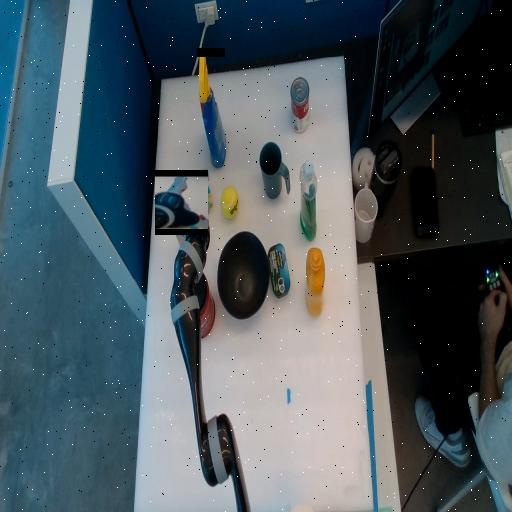bowl: (218, 232, 268, 318)
cleanser: (300, 161, 316, 241)
coffee_can: (175, 283, 214, 322)
jaco: (155, 176, 208, 229)
meat_can: (267, 244, 289, 298)
mug: (259, 143, 289, 199)
mustard_bottle: (305, 273, 324, 292)
rubik: (190, 174, 212, 217)
soup_can: (290, 78, 308, 133)
tennis_ball: (221, 188, 238, 218)
windex: (197, 96, 225, 118)
wooden_block: (170, 219, 195, 244)
workspace: (135, 57, 372, 509)
